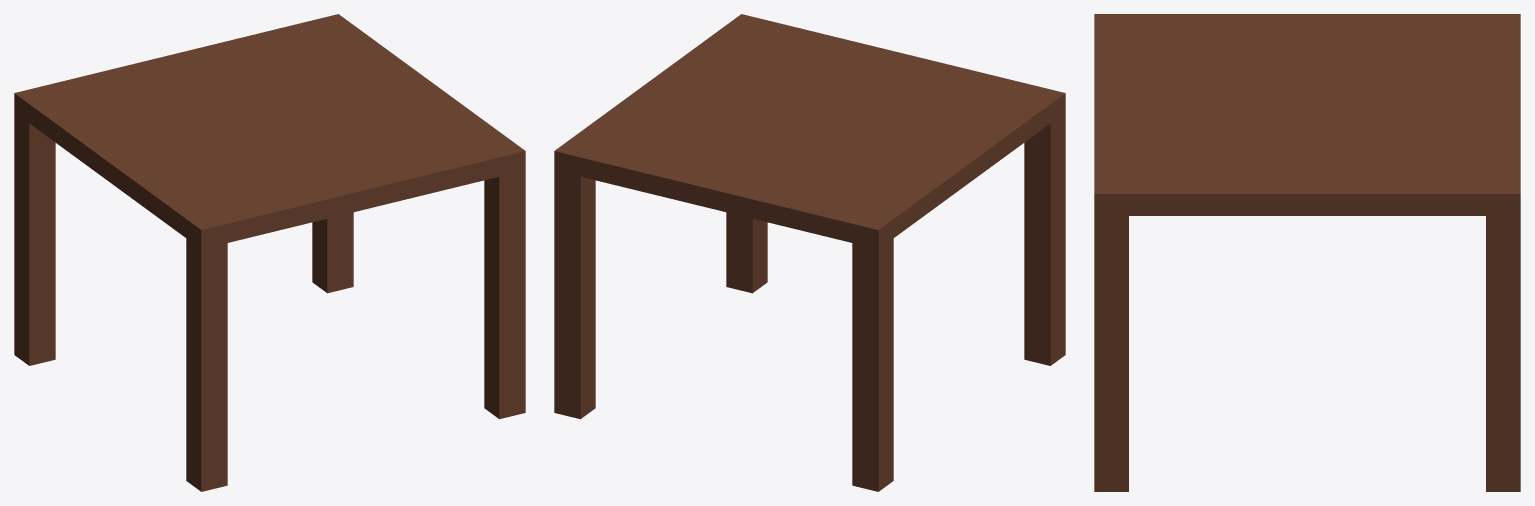
File: Table_03.fbx
3 views of the same model, side by side, from view 1: azimuth 30°, elevation 25°; view 2: azimuth 150°, elevation 25°; view 3: azimuth 270°, elevation 25° (orthographic). The views are drawn at different scales.
Visible parts, largest first — view 1: Table_03; view 2: Table_03; view 3: Table_03.
Part boxes in pixels (x1,y1,x2,y2): Table_03: [14, 14, 525, 491]; Table_03: [554, 14, 1065, 491]; Table_03: [1094, 14, 1520, 491].
Size of the model in its own units: 110 by 84.89 by 110.
